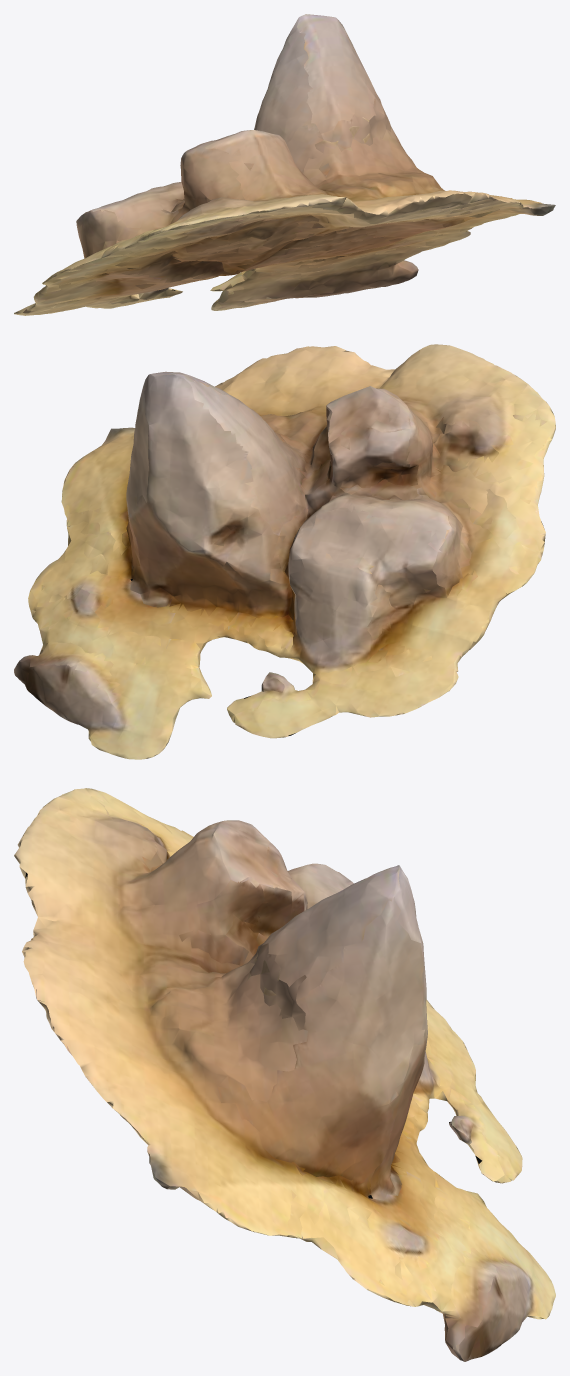
Rendered from stylized-rocks.glb.
The picture shows the model from 3 angles, top to bottom: view 1: azimuth 30°, elevation 25°; view 2: azimuth 150°, elevation 25°; view 3: azimuth 270°, elevation 25°; orthographic projection. The views are drawn at different scales.
Parts seen in each view (by area): view 1: world; view 2: world; view 3: world.
Boxes of the visible parts, x1,y1,x2,y2 form: world: [14, 14, 555, 315]; world: [14, 344, 555, 759]; world: [14, 788, 555, 1361].
Size of the model in its own units: 0.9672 by 0.6458 by 0.7247.
Materials: 1 (1 with a texture image).
